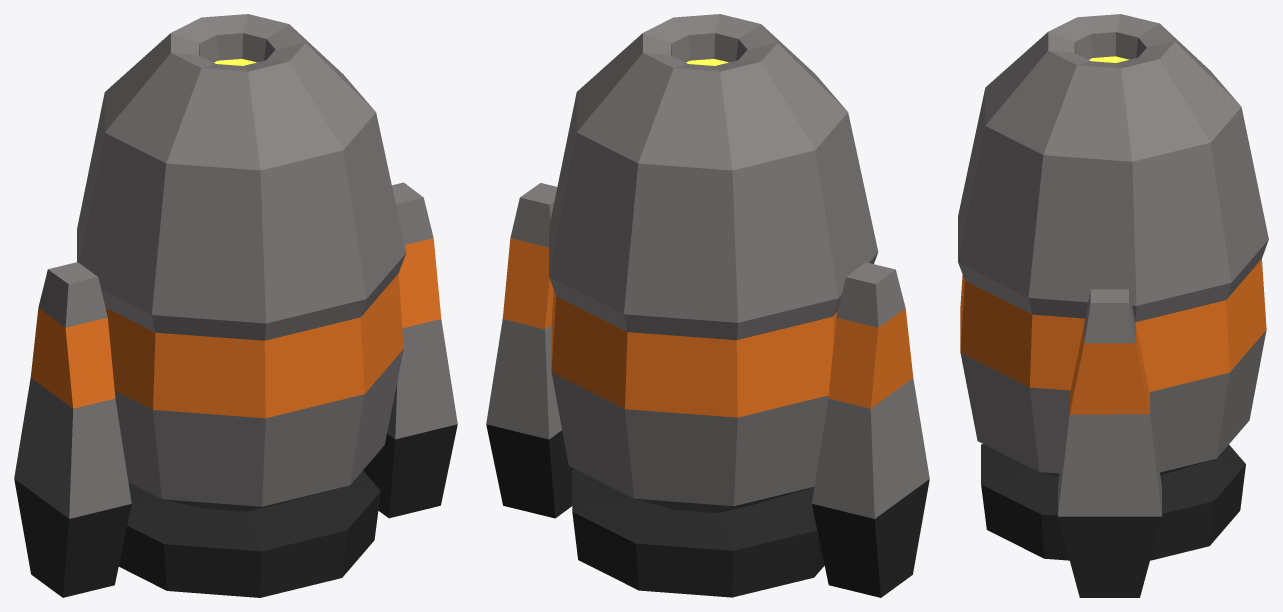
Rendered from scifi-smelter.glb.
3 renders of one model, left to right at view 1: azimuth 30°, elevation 25°; view 2: azimuth 150°, elevation 25°; view 3: azimuth 270°, elevation 25°, orthographic. The views are drawn at different scales.
Visible parts, largest first — view 1: scifi-smelter; view 2: scifi-smelter; view 3: scifi-smelter.
Part boxes in pixels (x1,y1,x2,y2): scifi-smelter: [14, 14, 457, 597]; scifi-smelter: [486, 14, 929, 597]; scifi-smelter: [958, 14, 1268, 597].
Bounding box in the file's own units: 1.64 × 2 × 1.2.
1 material, 1 textured.
